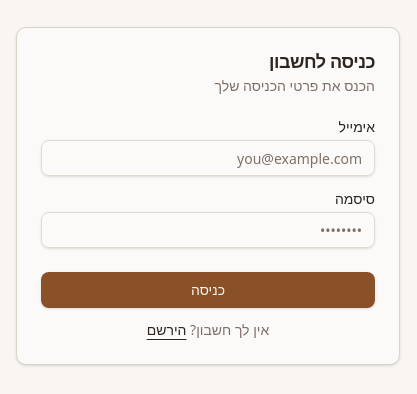
Scenario: LoginPage › shows validation error when password is empty
Type "test@example.com" into the field labelled "אימייל". click: (208, 158)
box: [41,140,375,176]
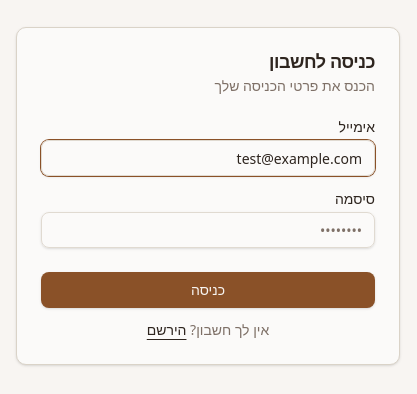
Submit the form "כניסה", box [17,120,399,364]
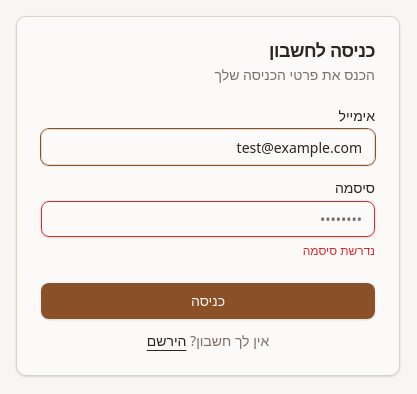
Result: the text "נדרשת סיסמה" is shown at [303,242,375,259]
